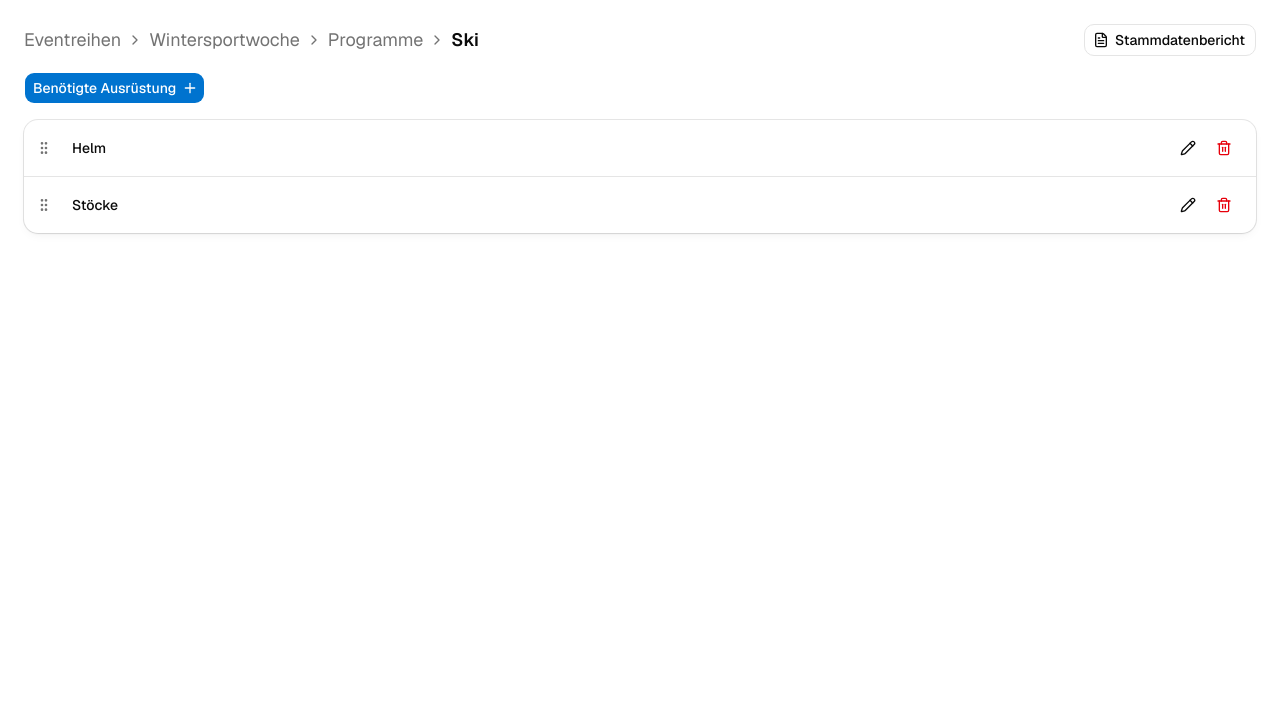
Test: ProgramEquipmentView › offers both sides of the lending question, with the default one chosen
What coordinates should you click on to do the following:
click the button with aria-label "neuer ausrüstungsgegenstand"
I would click on:
 (115, 88)
Its box is [24,72,205,104].
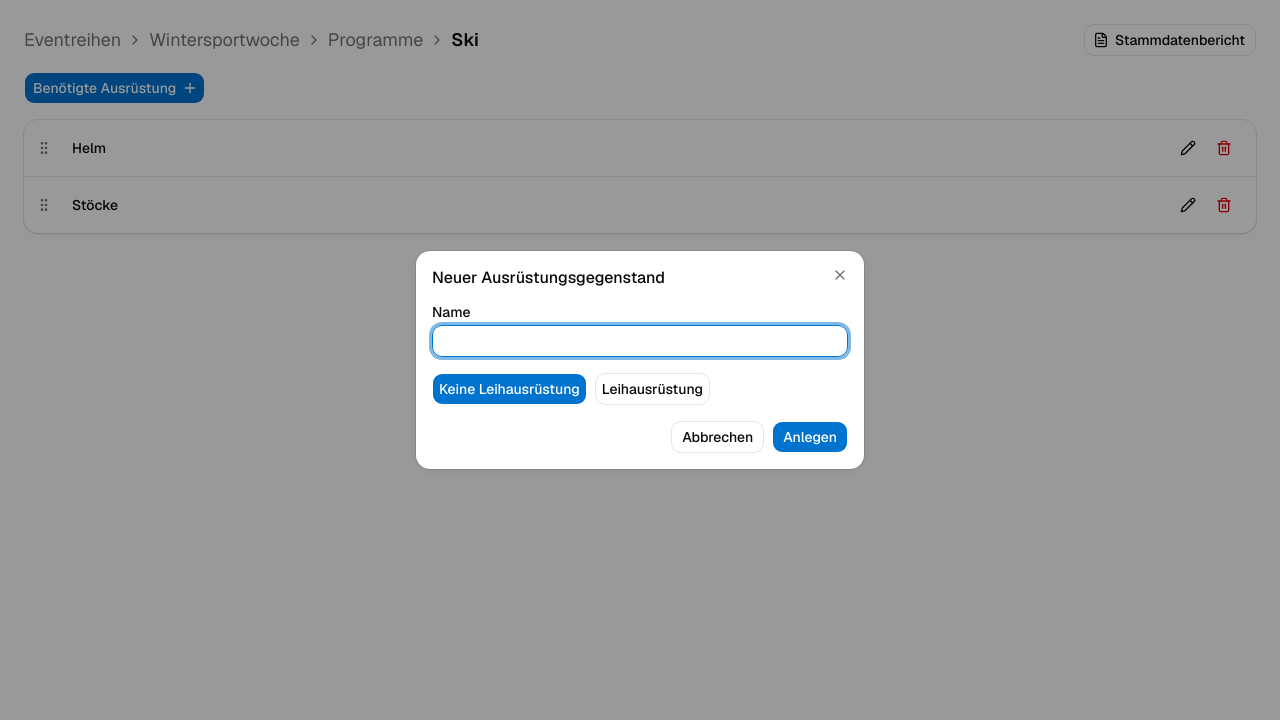
Result: the radio button labelled "Keine Leihausrüstung" is checked at [432,373,587,405]
Result: the radio button labelled "Leihausrüstung" is not checked at [595,373,710,405]
